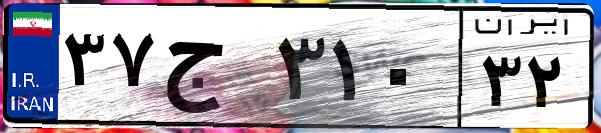0: (385, 28, 445, 110)
1: (330, 28, 385, 110)
2: (525, 38, 570, 115)
3: (270, 28, 330, 110), (57, 26, 110, 100), (475, 38, 525, 113)
7: (110, 28, 158, 98)
ج: (158, 20, 270, 120)
